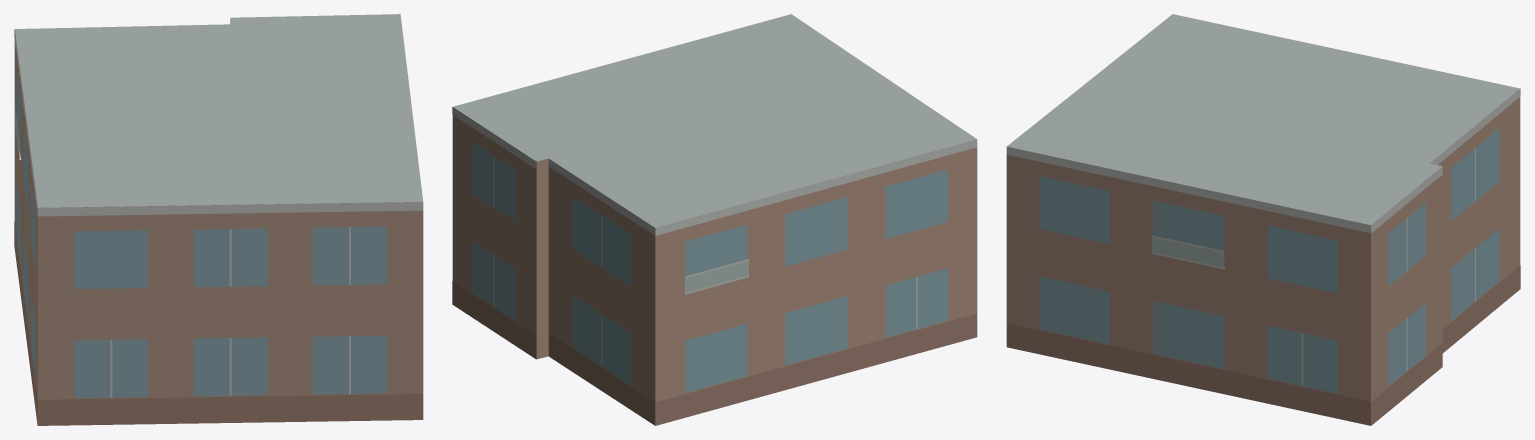
Rendered from survey-upis-32959411.glb.
3 views of the same model, side by side, from view 1: azimuth 30°, elevation 25°; view 2: azimuth 150°, elevation 25°; view 3: azimuth 270°, elevation 25° (orthographic). The views are drawn at different scales.
Visible parts, largest first — view 1: survey-upis-32959411.tmp; view 2: survey-upis-32959411.tmp; view 3: survey-upis-32959411.tmp.
Boxes of the visible parts, bbox=[...] form: survey-upis-32959411.tmp: bbox=[14, 14, 423, 425]; survey-upis-32959411.tmp: bbox=[452, 14, 977, 425]; survey-upis-32959411.tmp: bbox=[1006, 14, 1520, 425].
Size of the model in its own units: 13.79 by 6.1 by 14.17.
